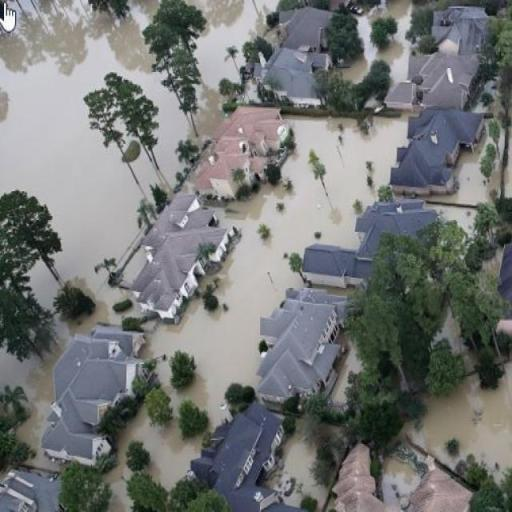flood: (0, 0, 189, 472), (143, 112, 409, 428), (192, 0, 277, 136), (406, 362, 512, 470), (105, 410, 201, 512), (428, 137, 498, 232), (338, 0, 414, 80), (270, 420, 328, 512), (332, 346, 360, 406), (385, 458, 417, 499), (30, 264, 57, 308), (133, 152, 156, 189)
house: (41, 329, 140, 467), (127, 192, 229, 316), (251, 294, 344, 409), (190, 104, 290, 196), (211, 398, 284, 490), (262, 8, 330, 106), (392, 107, 462, 197), (358, 200, 434, 266), (413, 46, 474, 109), (302, 230, 364, 287), (401, 468, 476, 512), (0, 466, 65, 512), (433, 6, 491, 57)
